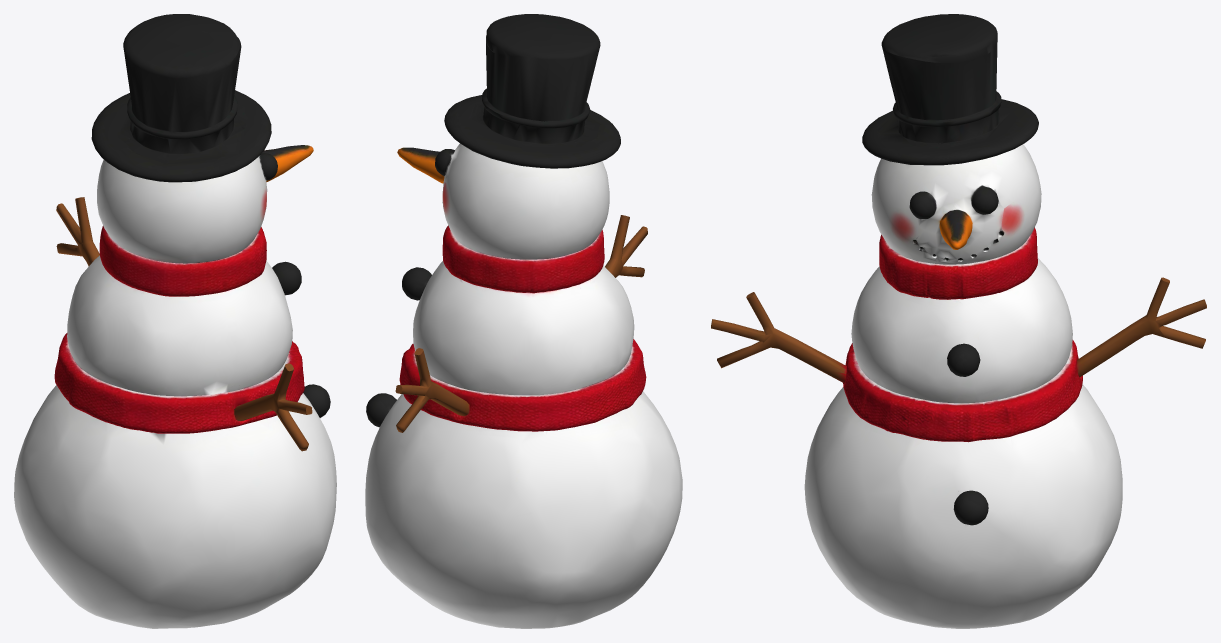
The model's file is snowman.glb.
3 renders of one model, left to right at view 1: azimuth 30°, elevation 25°; view 2: azimuth 150°, elevation 25°; view 3: azimuth 270°, elevation 25°, orthographic.
Parts seen in each view (by area): view 1: tripo_node_b081bfa8-fc8a-4866-b154-d6a356cc7bde; view 2: tripo_node_b081bfa8-fc8a-4866-b154-d6a356cc7bde; view 3: tripo_node_b081bfa8-fc8a-4866-b154-d6a356cc7bde.
Part boxes in pixels (left/top/right/bottom): tripo_node_b081bfa8-fc8a-4866-b154-d6a356cc7bde: left=14, top=14, right=336, bottom=628; tripo_node_b081bfa8-fc8a-4866-b154-d6a356cc7bde: left=365, top=14, right=682, bottom=628; tripo_node_b081bfa8-fc8a-4866-b154-d6a356cc7bde: left=711, top=14, right=1206, bottom=628.
Size of the model in its own units: 0.7016 by 1.3 by 1.04.
Materials: 1 (1 with a texture image).
